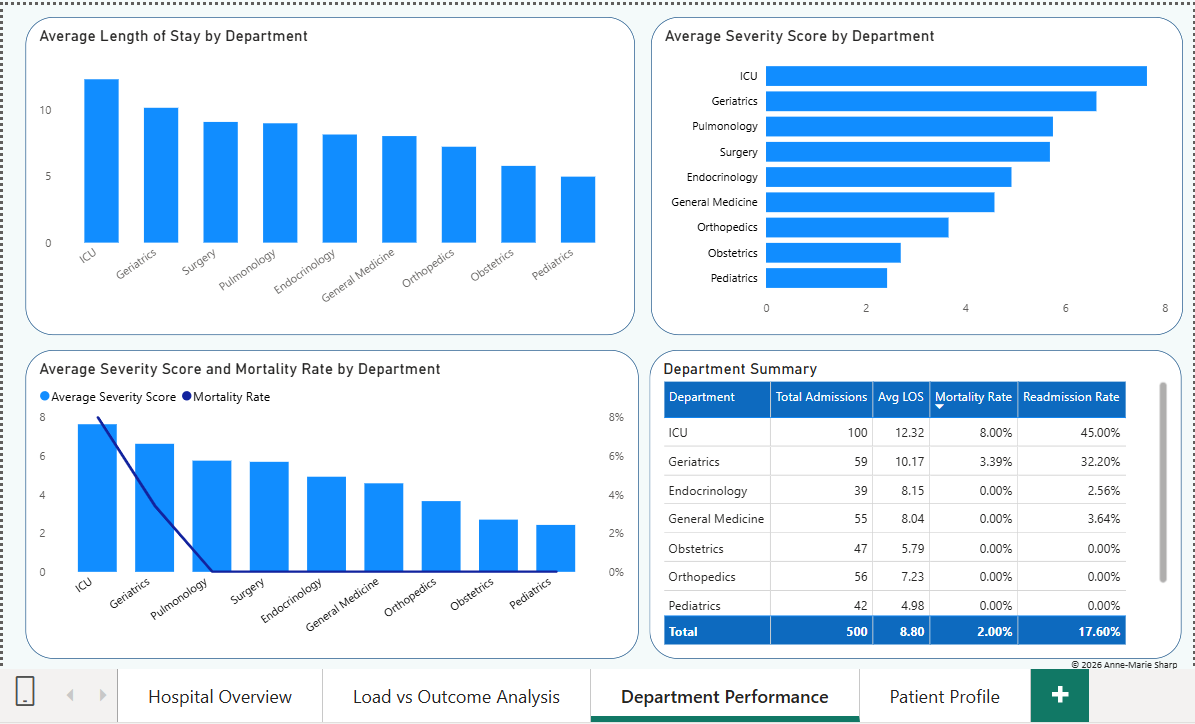

What the dashboard file says about the page in this screenshot:
{"tool":"powerbi","page":{"name":"Department Performance","canvas":[1280,720],"ordinal":2},"visuals":[{"type":"clusteredBarChart","title":"Average Severity Score by Department","fields":{"Category":["public hospital_admissions.department"],"Y":["Avg(public hospital_admissions.severity_score)"]},"box":[696,12.1,571.9,341.9],"z":0},{"type":"clusteredColumnChart","title":"Average Length of Stay by Department","fields":{"Category":["public hospital_admissions.department"],"Y":["public hospital_admissions.Avg LOS"]},"box":[24.2,12.1,655.1,341.9],"z":1000},{"type":"tableEx","title":"Department Summary","fields":{"Values":["public hospital_admissions.department","public hospital_admissions.Total Admissions","public hospital_admissions.Avg LOS","public hospital_admissions.Mortality Rate","public hospital_admissions.Readmission Rate"]},"box":[695.8,371.2,572,331.9],"z":2000},{"type":"lineClusteredColumnComboChart","title":"Average Severity Score and Mortality Rate by Department","fields":{"Category":["public hospital_admissions.department"],"Y":["Avg(public hospital_admissions.severity_score)"],"Y2":["public hospital_admissions.Mortality Rate"]},"box":[24.7,371.2,659.4,331.9],"z":3000},{"type":"textbox","box":[1119.3,689.9,148.5,30.6],"z":4000}]}

Visuals, with their boxes on the page's 1280x720 design canvas (x1, y1, x2, y2). These are canvas units, not pixel positions in the 1195x724 screenshot, which may show the page scaled, cropped or inside an application window:
"Average Severity Score by Department" clusteredBarChart: bbox(696, 12, 1268, 354)
"Average Length of Stay by Department" clusteredColumnChart: bbox(24, 12, 679, 354)
"Department Summary" tableEx: bbox(696, 371, 1268, 703)
"Average Severity Score and Mortality Rate by Department" lineClusteredColumnComboChart: bbox(25, 371, 684, 703)
textbox: bbox(1119, 690, 1268, 720)
